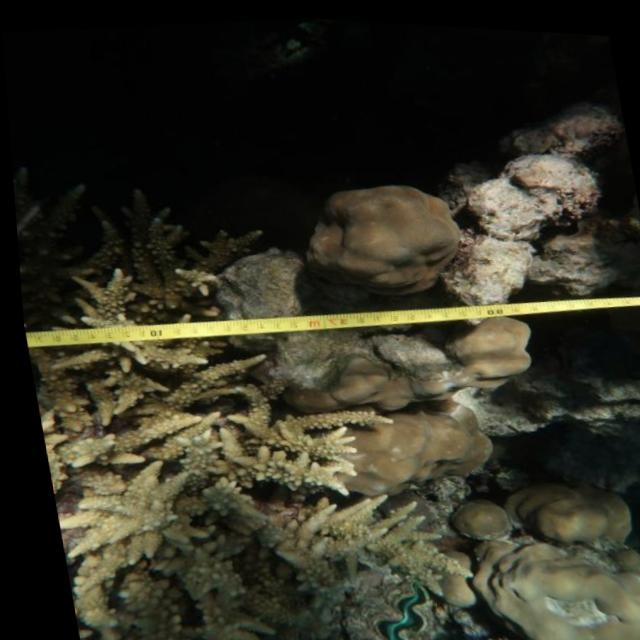Bleached Coral: (19, 306, 471, 640)
